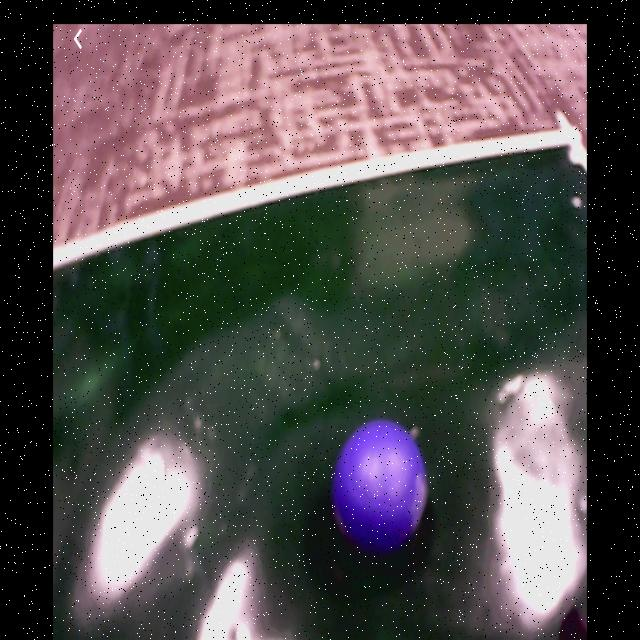ball: (337, 418, 425, 553)
